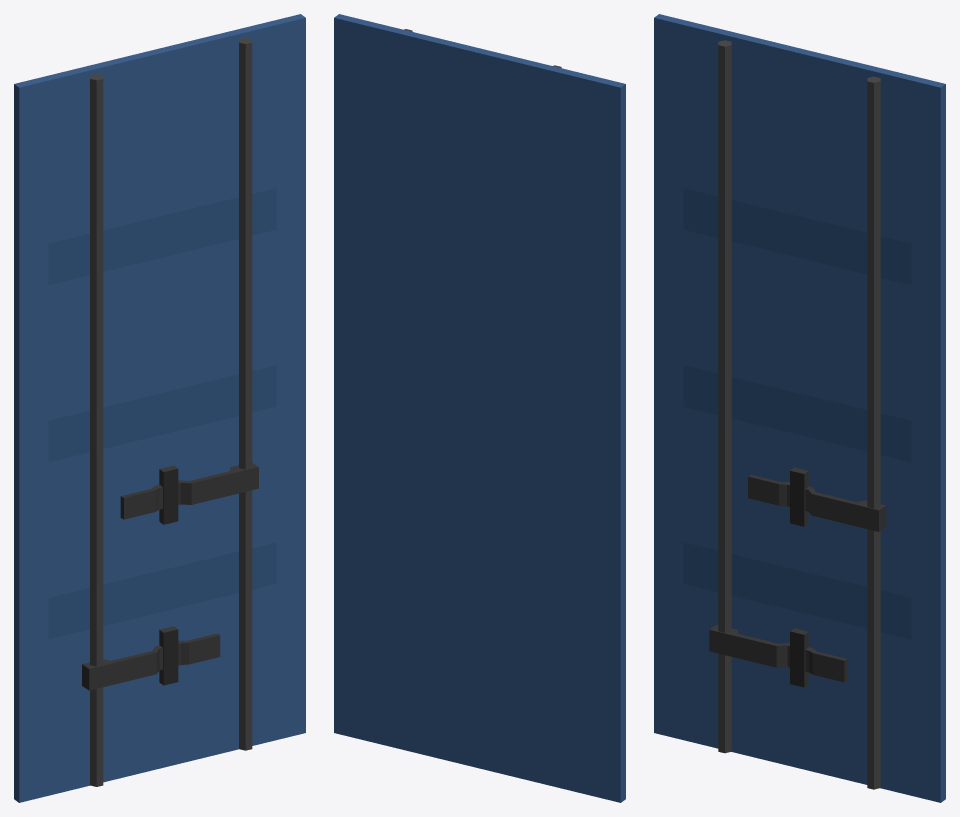
File: SM_IndustrialProps_ShippingContainer_03_Door_01.fbx
3 views of the same model, side by side, from view 1: azimuth 30°, elevation 25°; view 2: azimuth 150°, elevation 25°; view 3: azimuth 330°, elevation 25° (orthographic).
Visible parts, largest first — view 1: SM_IndustrialProps_ShippingContainer_03_Door_01; view 2: SM_IndustrialProps_ShippingContainer_03_Door_01; view 3: SM_IndustrialProps_ShippingContainer_03_Door_01.
Boxes of the visible parts, box(x1,y1,x2,y2) form: SM_IndustrialProps_ShippingContainer_03_Door_01: box(14, 14, 305, 802); SM_IndustrialProps_ShippingContainer_03_Door_01: box(334, 14, 625, 802); SM_IndustrialProps_ShippingContainer_03_Door_01: box(654, 14, 945, 802).
Bounding box in the file's own units: 1.09 × 2.6 × 0.0825.
